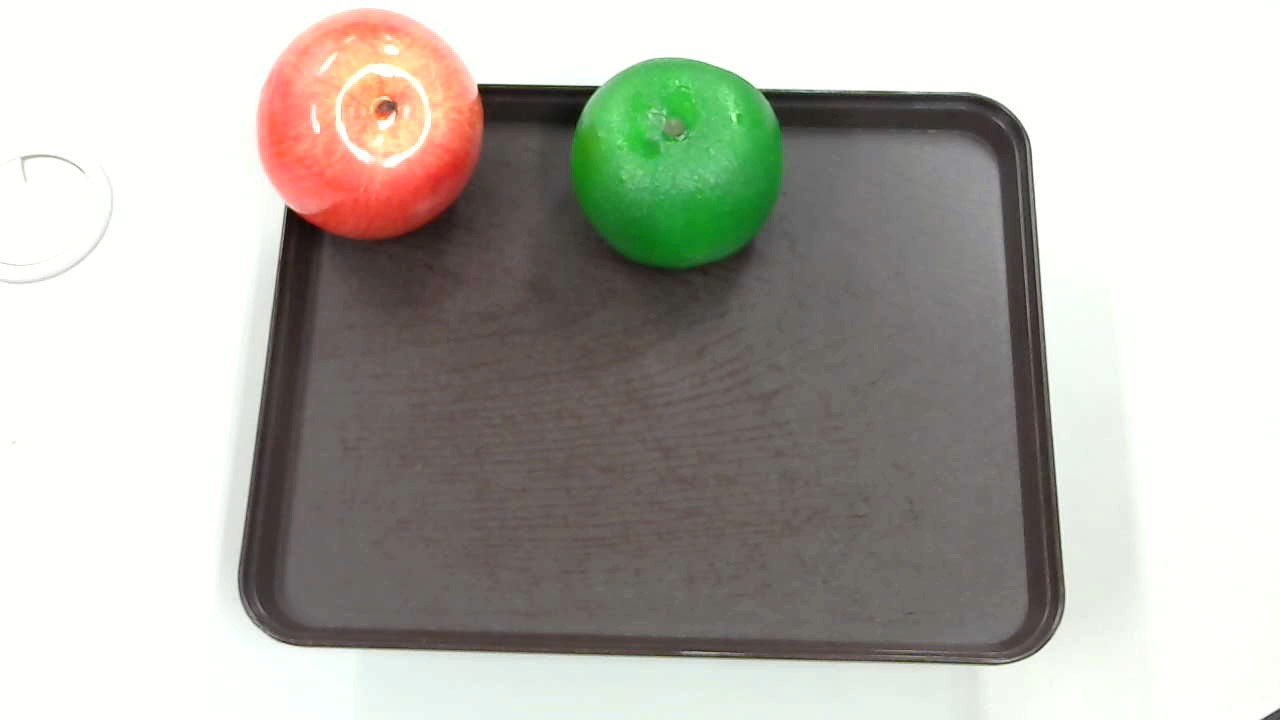green orange: (566, 55, 793, 276)
red apple: (257, 8, 488, 246)
